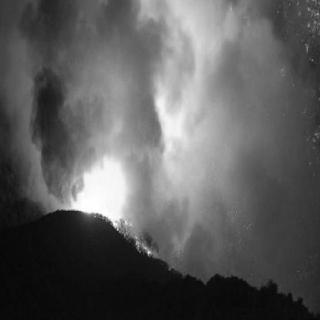Fire: (32, 1, 212, 229)
